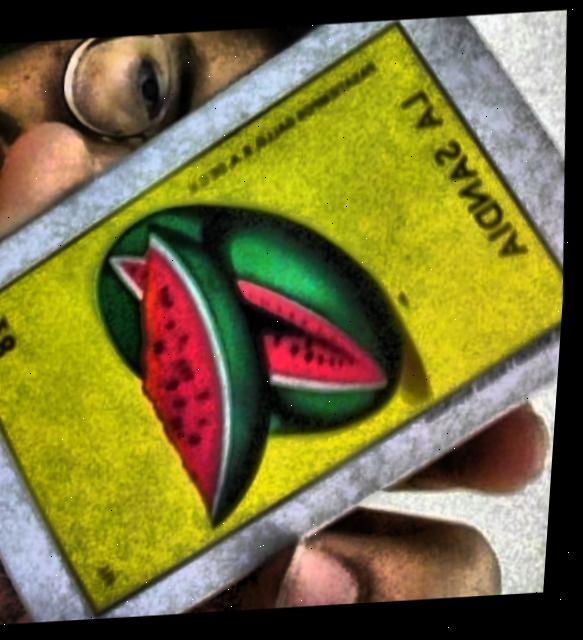La Sandia: (0, 21, 567, 610)
